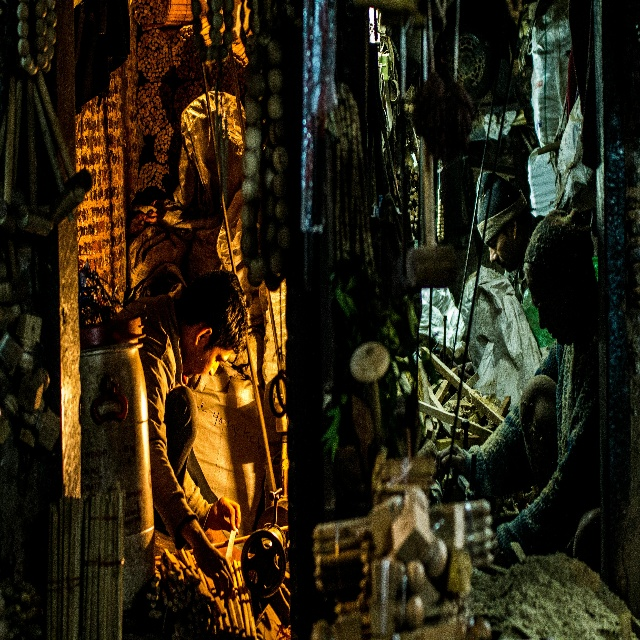Sin_guantes: (195, 531, 233, 598), (210, 494, 241, 529), (435, 442, 466, 476)
